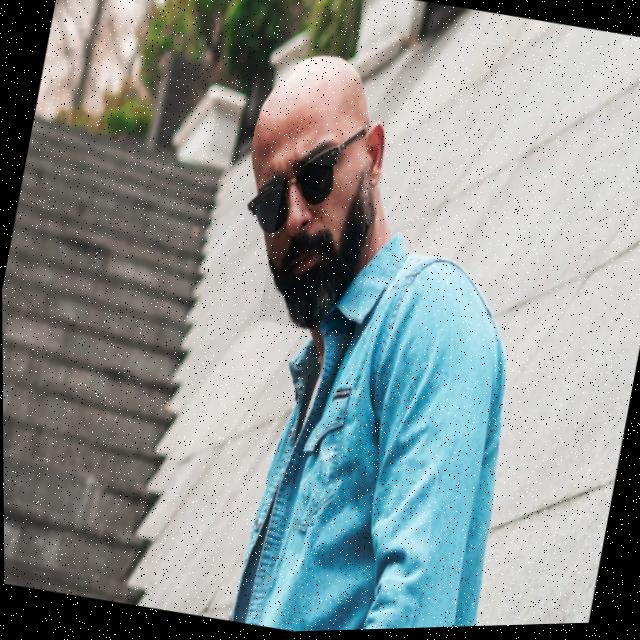beard: (269, 175, 376, 331)
